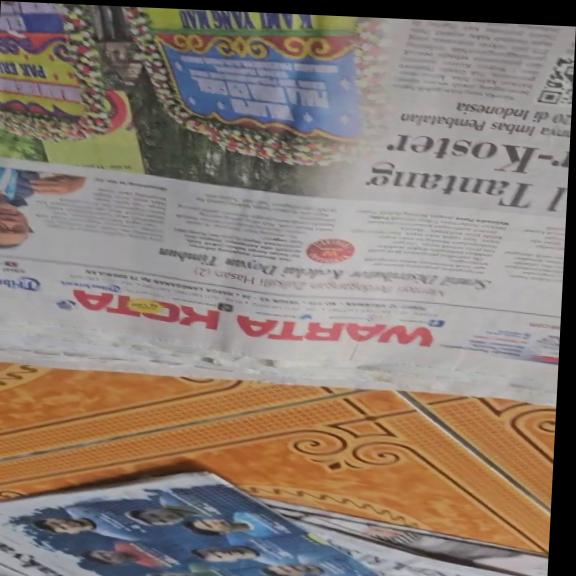Kertas: (0, 6, 574, 386)
